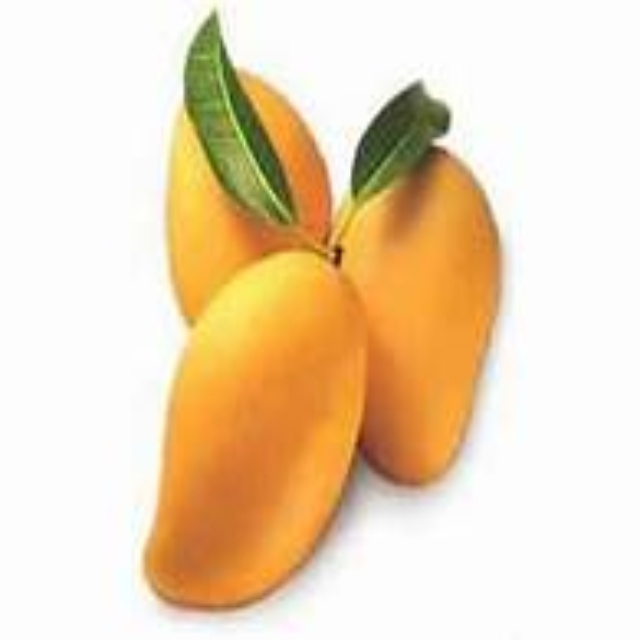mango: (145, 251, 370, 614), (330, 146, 504, 492), (166, 65, 337, 325)
